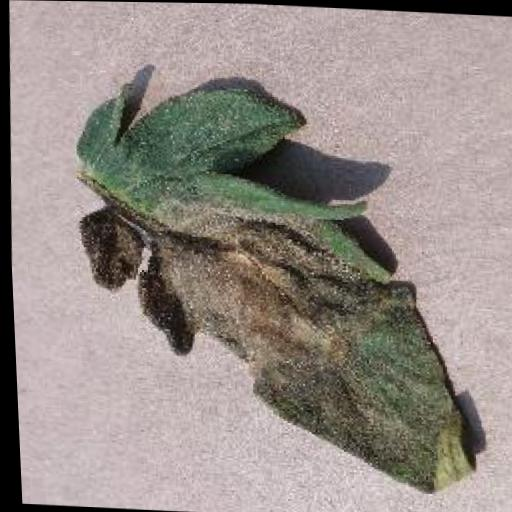Late Blight: (60, 77, 486, 494)
